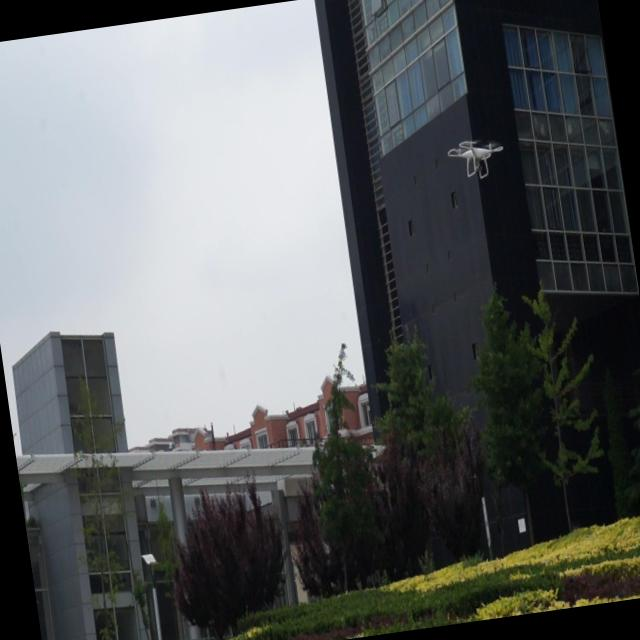drone: (444, 133, 509, 186)
